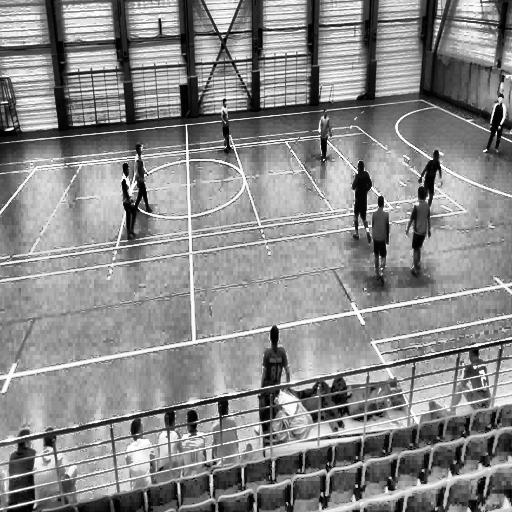player: (406, 185, 432, 279), (350, 160, 374, 249), (368, 194, 390, 288), (481, 92, 507, 161), (131, 144, 151, 217), (418, 148, 444, 203), (121, 161, 137, 247), (318, 108, 332, 161), (220, 96, 232, 154)
